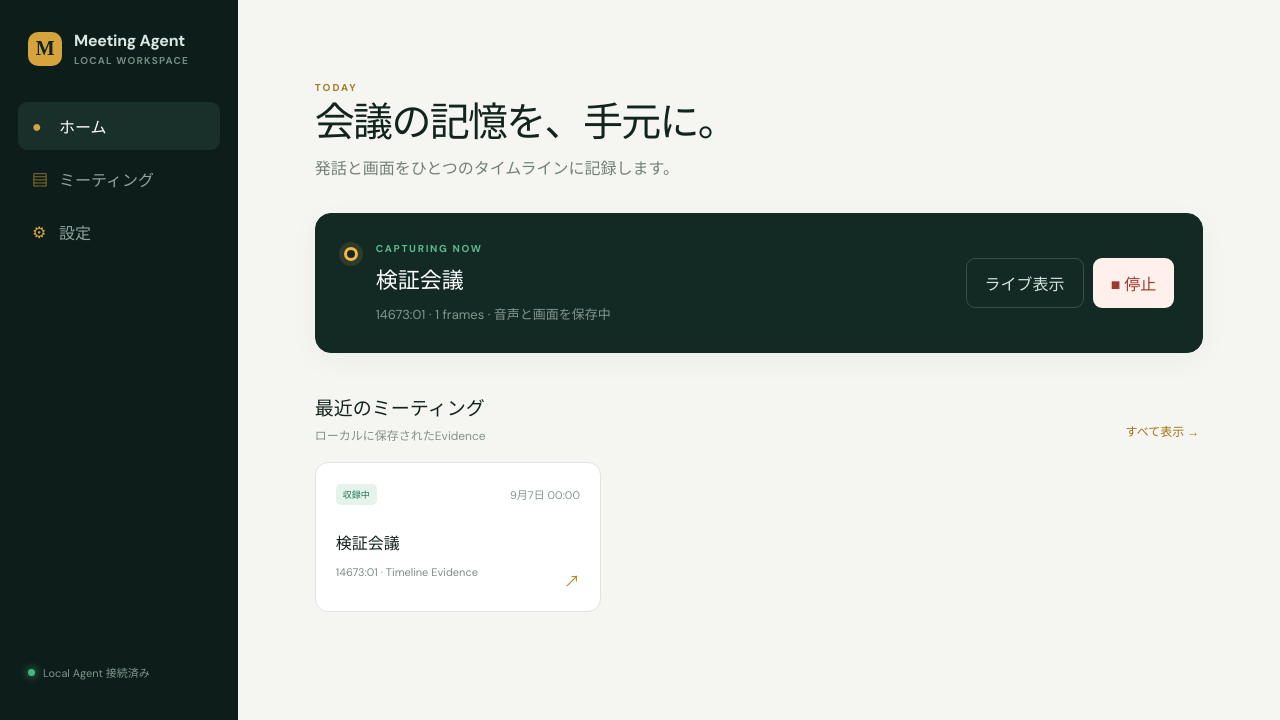
Scenario: bounds transcript DOM rows while allowing older and later pages
Click the button "ライブ表示" at coordinates (1025, 282), box [966, 258, 1084, 308]
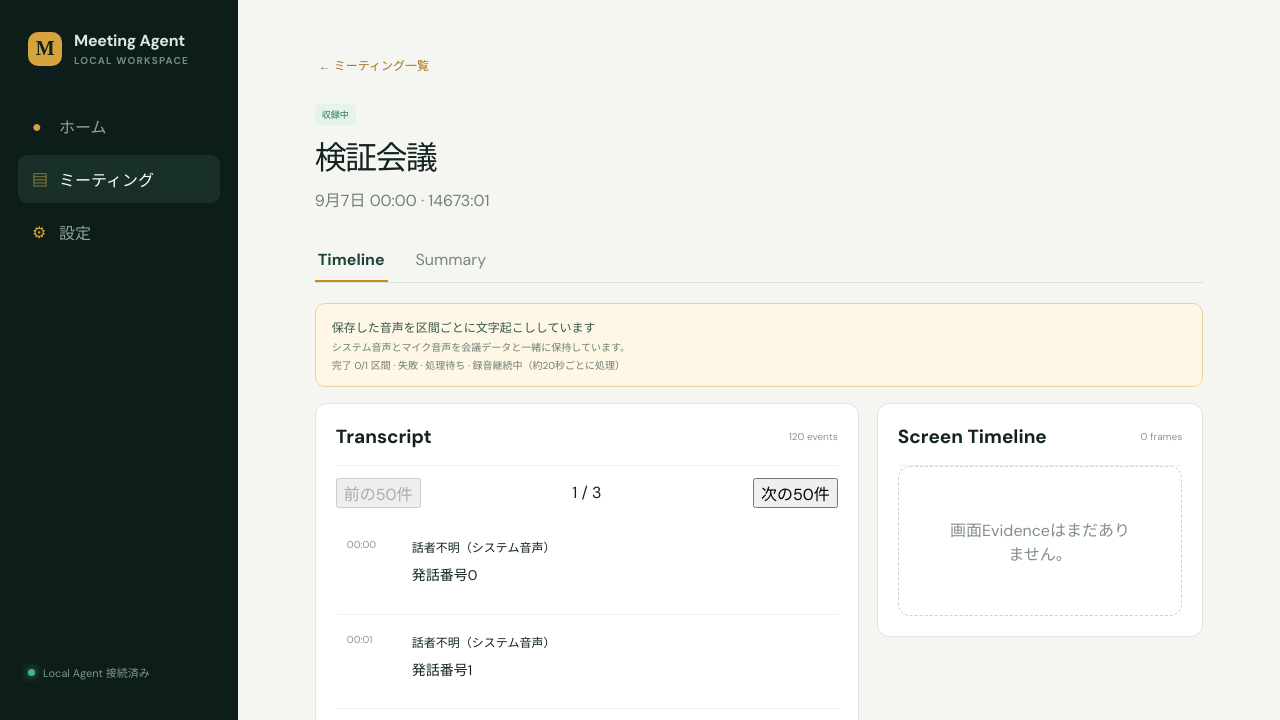
Expected: the text "発話番号50" is not shown
Result: the text "発話番号0" is shown at [412, 566, 477, 584]
Click the button "次の50件" at coordinates (795, 493), box [753, 478, 838, 508]
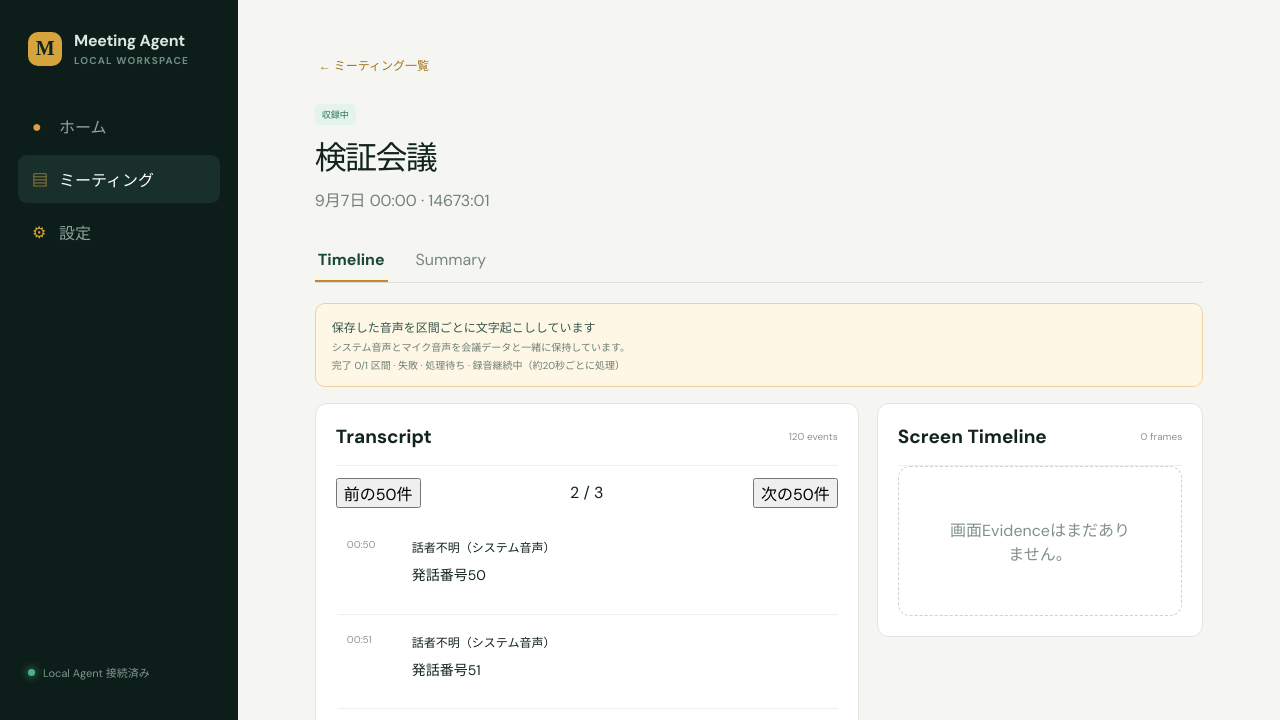
Result: the text "発話番号50" is shown at [412, 566, 486, 584]
Result: the text "発話番号0" is gone
